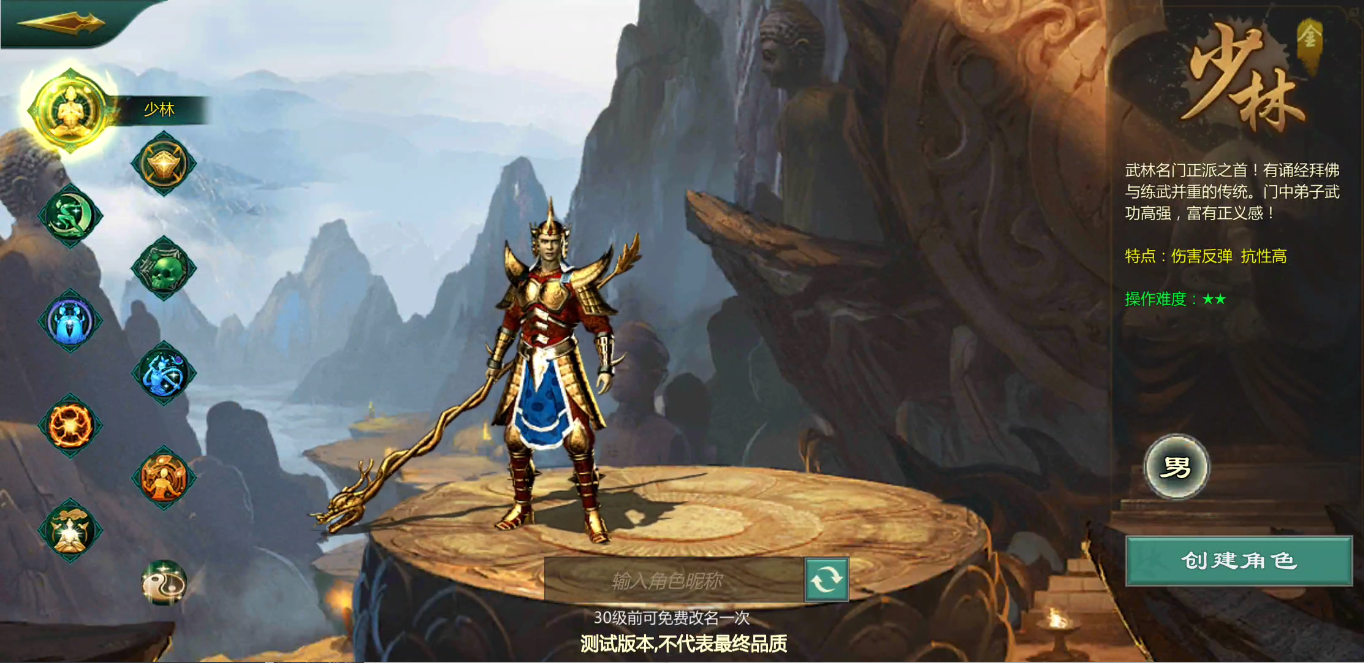cuiyan: (132, 339, 201, 410)
emei: (41, 285, 104, 352)
gaibang: (36, 389, 106, 465)
kunlun: (136, 554, 191, 612)
name: (807, 559, 847, 600)
tangmen: (37, 180, 107, 252)
tianren: (131, 444, 199, 515)
tianwang: (131, 130, 201, 199)
wudang: (36, 495, 104, 567)
wudu: (127, 234, 201, 302)
